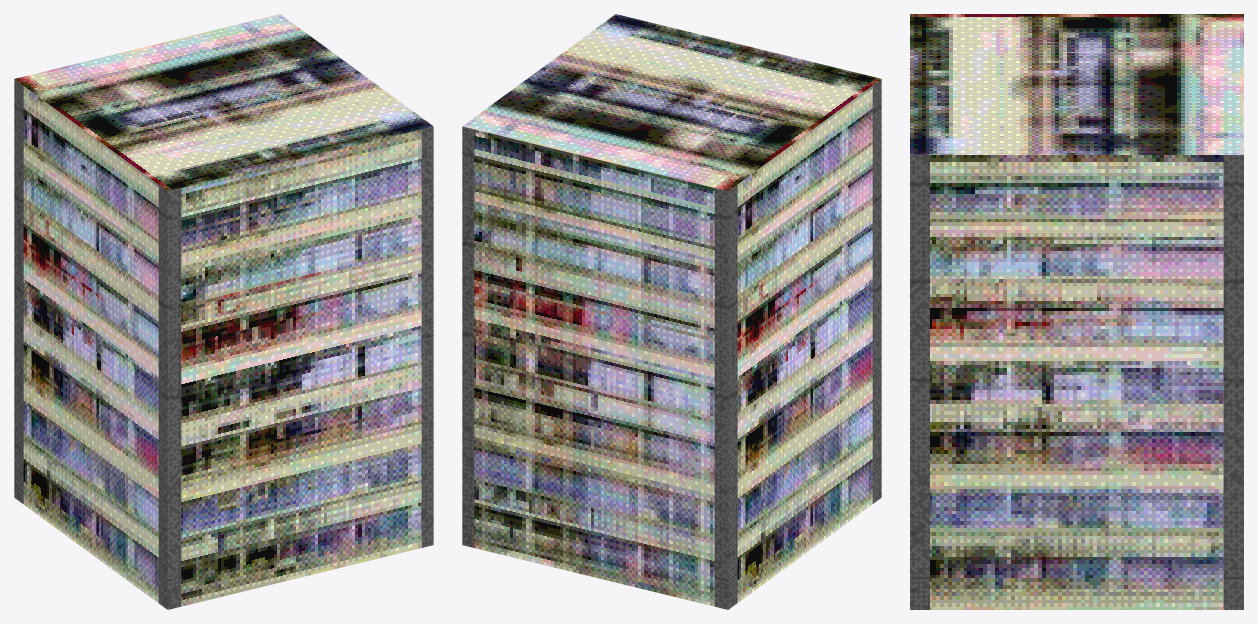
The model's file is WhiteBuilding1.glb.
The picture shows the model from 3 angles, left to right: view 1: azimuth 30°, elevation 25°; view 2: azimuth 150°, elevation 25°; view 3: azimuth 270°, elevation 25°; orthographic projection. The views are drawn at different scales.
Parts seen in each view (by area): view 1: BuildingClassy; view 2: BuildingClassy; view 3: BuildingClassy.
Part boxes in pixels (x1=…): BuildingClassy: x1=14, y1=14, x2=433, y2=609; BuildingClassy: x1=462, y1=14, x2=881, y2=609; BuildingClassy: x1=910, y1=14, x2=1243, y2=609.
Bounding box in the file's own units: 33.94 × 51.03 × 33.94.
Materials: 2 (2 with a texture image).
